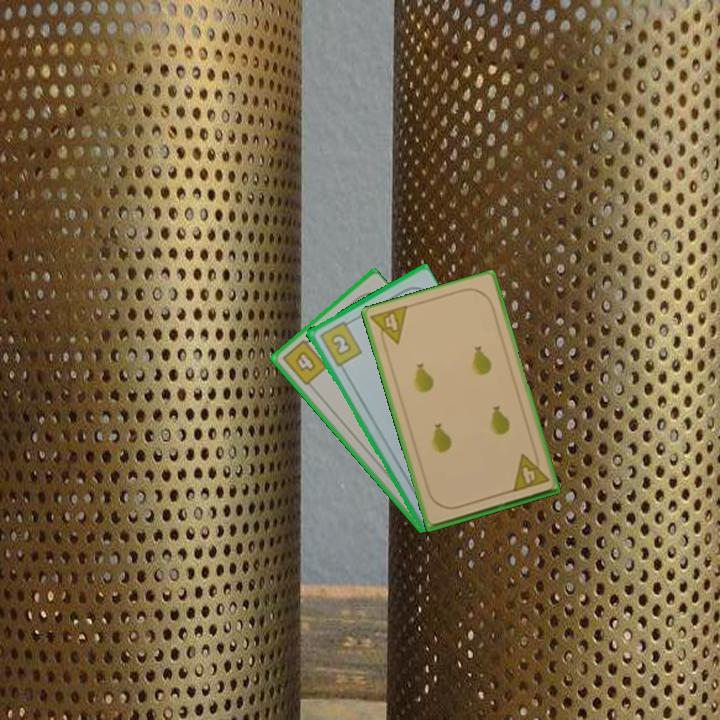2b: (316, 317, 364, 369)
4b: (279, 333, 330, 388)
4p: (367, 302, 411, 352), (508, 448, 552, 494)
